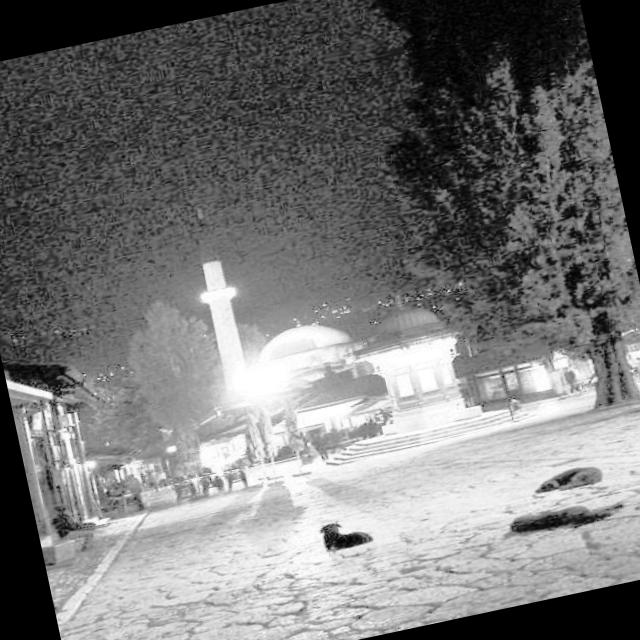Dog: (510, 428, 630, 512), (494, 493, 628, 552), (292, 488, 378, 576)
